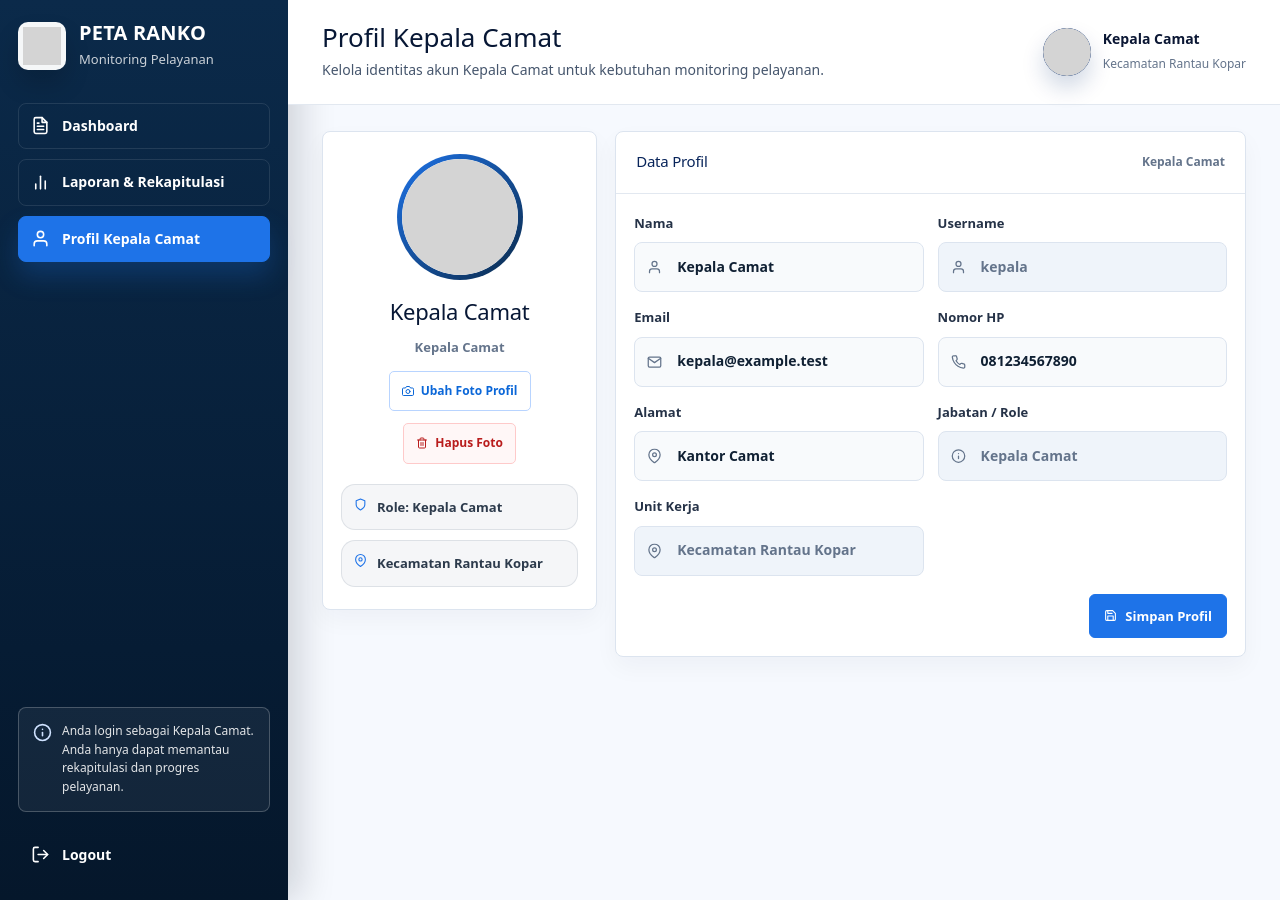
ProfilKepalaCamat › deletes a persisted avatar and returns profile plus header to KC fallback after remount
Click the button "Hapus Foto" at (460, 443), box [403,423,516,464]
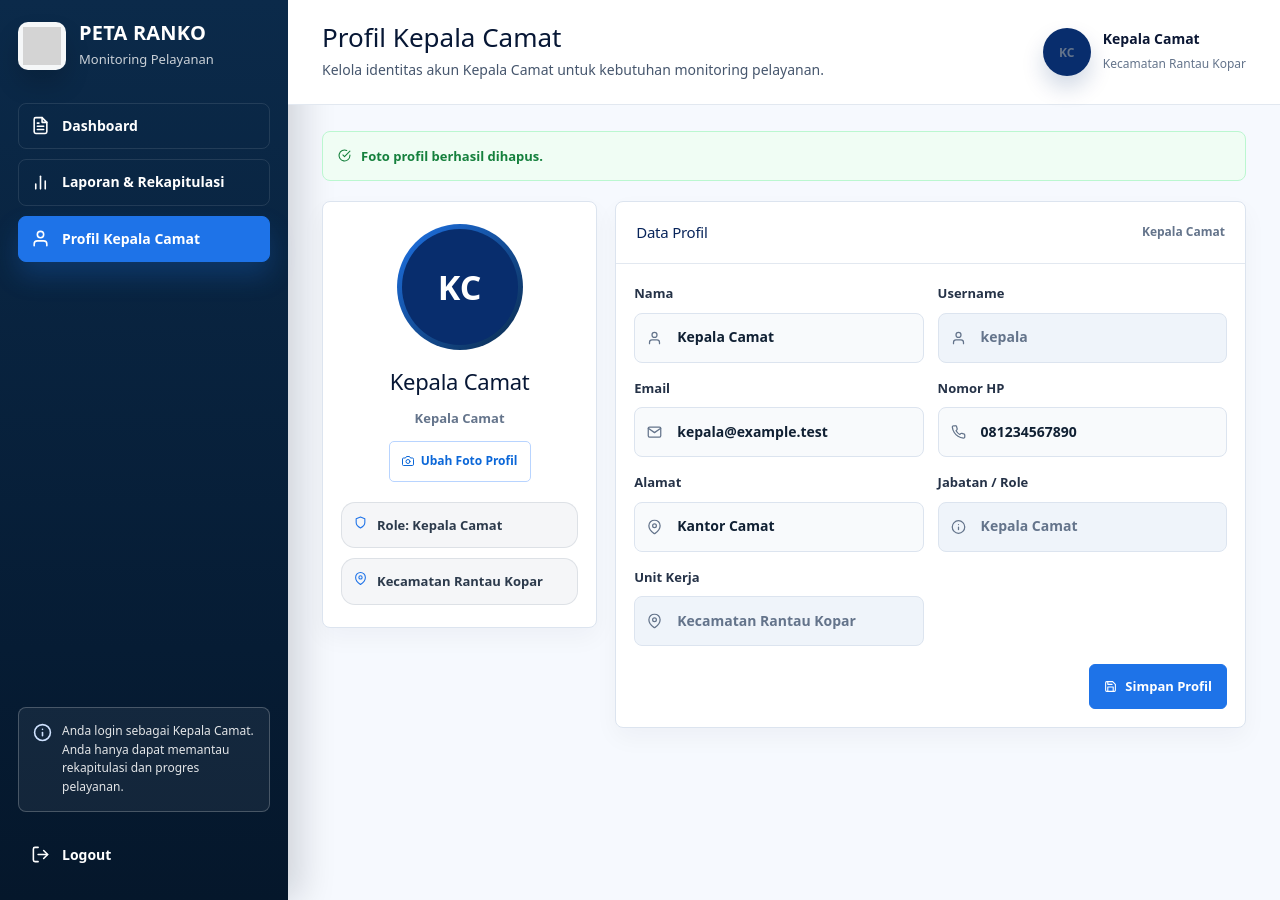
Check: the text "Foto profil berhasil dihapus." is shown, box [322,131,1246,181]
